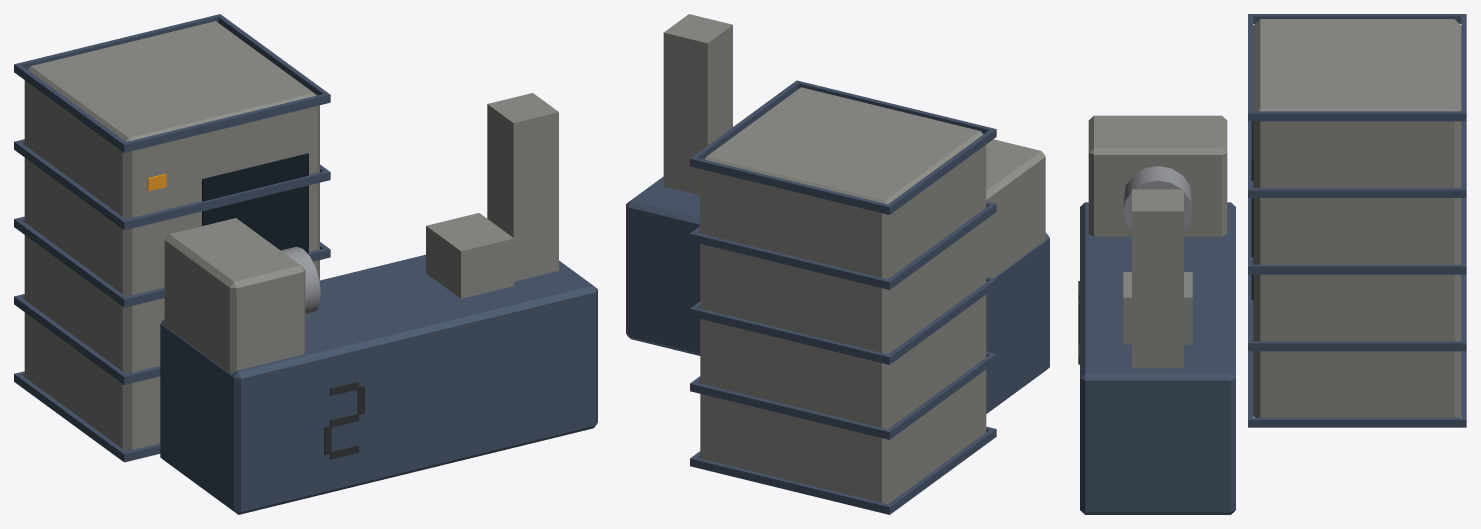
File: ms1_fabricator.obj
The picture shows the model from 3 angles, left to right: view 1: azimuth 30°, elevation 25°; view 2: azimuth 150°, elevation 25°; view 3: azimuth 270°, elevation 25°; orthographic projection. The views are drawn at different scales.
Visible parts, largest first — view 1: ms1_fabricator; view 2: ms1_fabricator; view 3: ms1_fabricator.
Part boxes in pixels (x1,y1,x2,y2): ms1_fabricator: (14, 14, 597, 514); ms1_fabricator: (626, 14, 1049, 514); ms1_fabricator: (1078, 14, 1466, 514).
Bounding box in the file's own units: 2.58 × 2 × 2.24.
